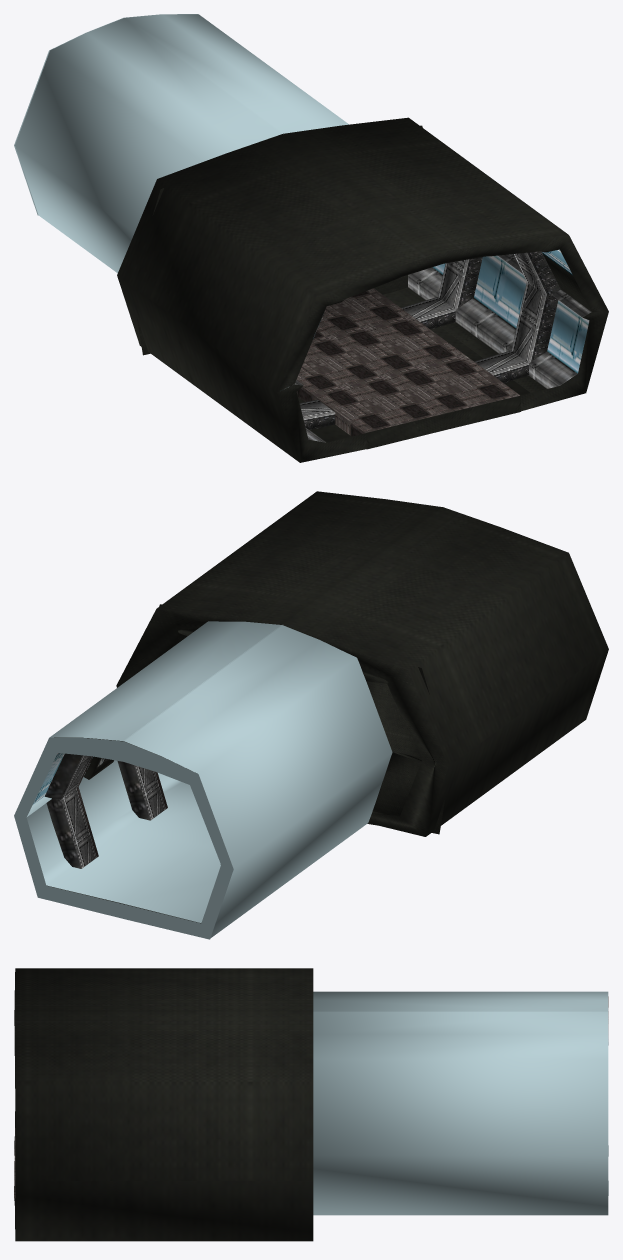
Rendered from WyeCorridor.fbx.
The picture shows the model from 3 angles, top to bottom: view 1: azimuth 30°, elevation 25°; view 2: azimuth 150°, elevation 25°; view 3: azimuth 270°, elevation 25°; orthographic projection. The views are drawn at different scales.
Parts seen in each view (by area): view 1: Circle_022, Circle_035, Circle_025, Circle_031, Circle_032; view 2: Circle_022, Circle_035, Circle_024, Circle_040, Circle_042; view 3: Circle_022, Circle_035.
Boxes of the visible parts, x1,y1,x2,y2 form: Circle_022: (117,117,608,462); Circle_035: (15,14,348,273); Circle_025: (296,288,519,432); Circle_031: (299,251,560,429); Circle_032: (401,257,482,329); Circle_022: (116,491,608,836); Circle_035: (26,621,392,938); Circle_024: (14,737,233,939); Circle_040: (45,753,98,868); Circle_042: (117,761,167,820); Circle_022: (14,968,313,1241); Circle_035: (313,991,608,1215).
Size of the model in its own units: 180 by 94.47 by 301.
